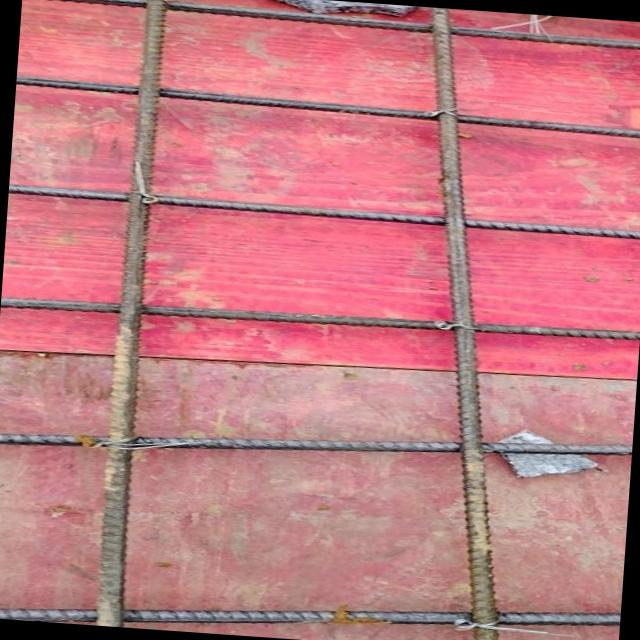ribbed bar: (382, 6, 543, 640), (0, 397, 630, 489), (93, 0, 167, 625), (0, 566, 618, 640), (0, 285, 638, 353), (15, 74, 640, 139), (8, 182, 640, 241), (21, 0, 640, 51)
